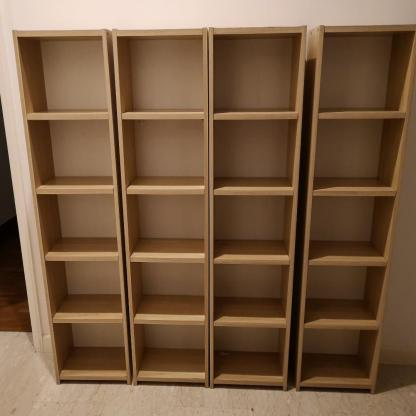lamp: (11, 24, 415, 396)
